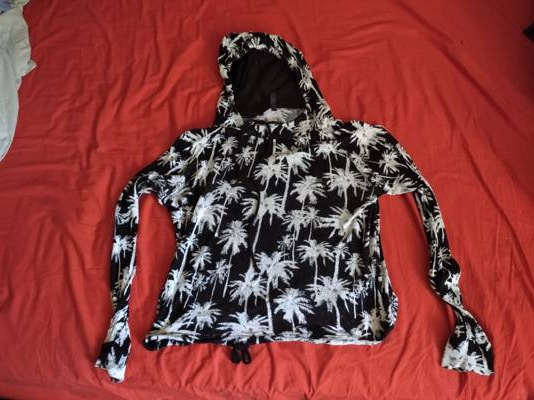Hoodie: (73, 28, 480, 391)
